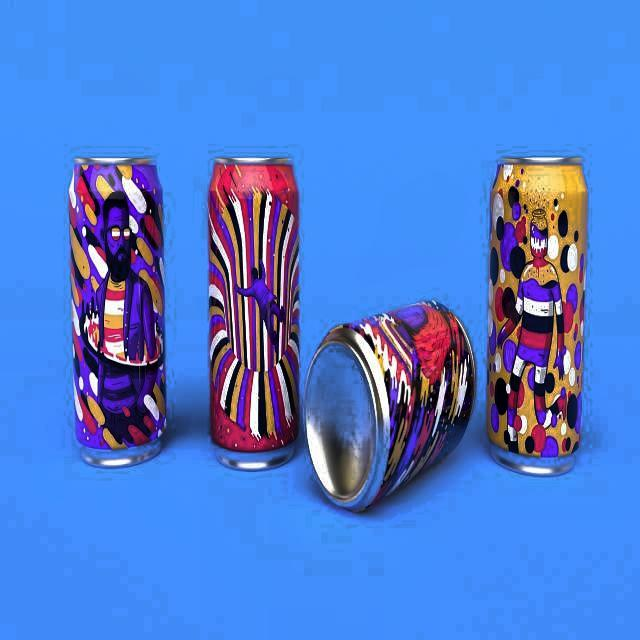can: (297, 297, 483, 516), (479, 147, 597, 485), (61, 153, 172, 473), (205, 149, 308, 473)
